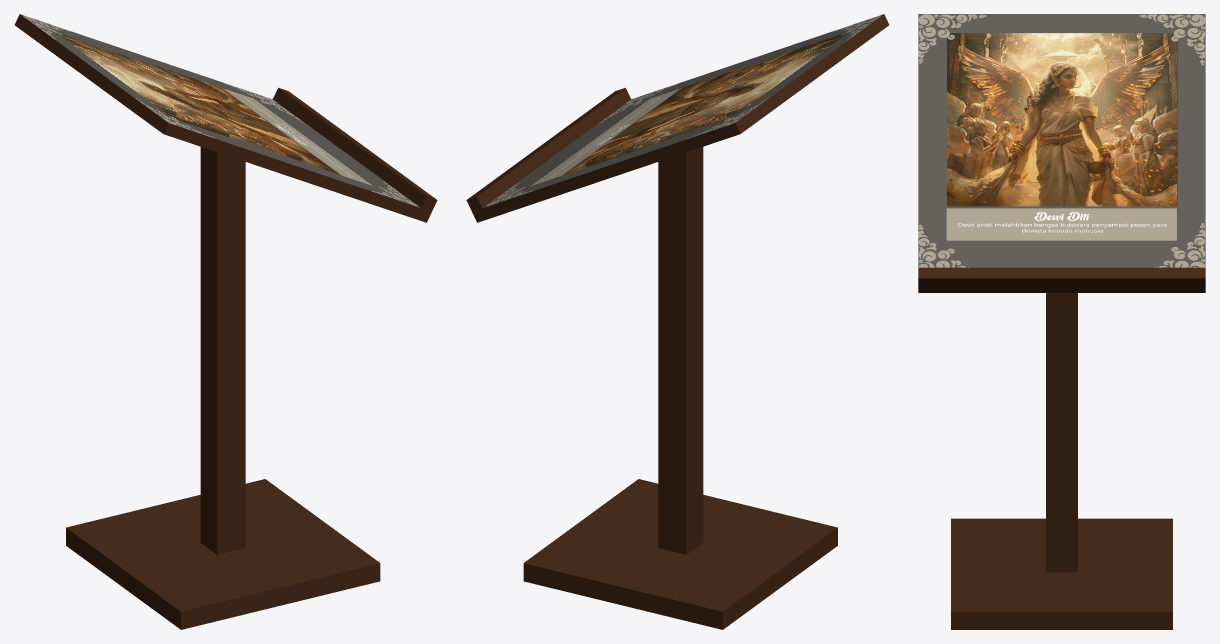
File: Dewi Diti.glb
The picture shows the model from 3 angles, left to right: view 1: azimuth 30°, elevation 25°; view 2: azimuth 150°, elevation 25°; view 3: azimuth 270°, elevation 25°; orthographic projection. The views are drawn at different scales.
Parts seen in each view (by area): view 1: Cube.001, Cube.002, Cube; view 2: Cube.001, Cube.002, Cube; view 3: Cube.002, Cube.001, Cube.
Part boxes in pixels (x1,y1,x2,y2): Cube.001: (66,479,380,629); Cube.002: (14,14,437,222); Cube: (200,147,245,554); Cube.001: (523,479,837,629); Cube.002: (466,14,889,222); Cube: (658,147,703,554); Cube.002: (918,14,1205,292); Cube.001: (951,518,1172,629); Cube: (1046,293,1077,572).
Bounding box in the file's own units: 0.6504 × 1.19 × 0.6117.
2 materials, 1 textured.
